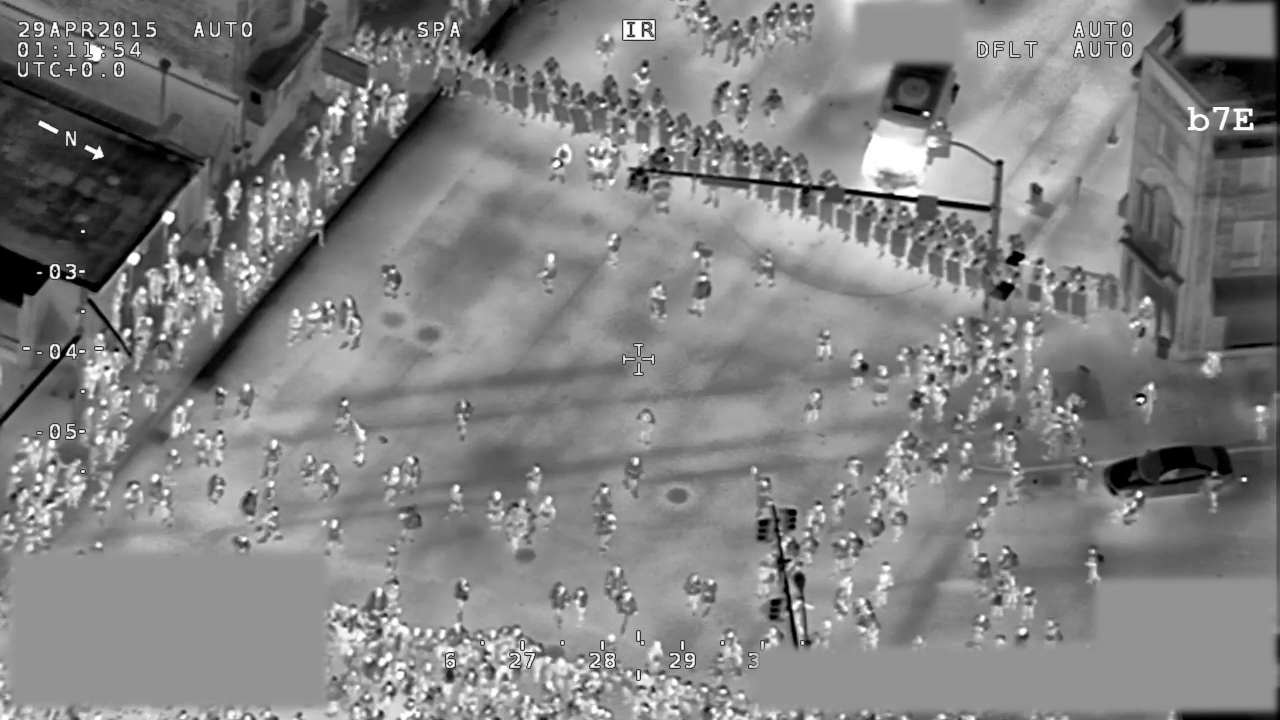vehicle: (860, 61, 962, 192), (1099, 440, 1238, 498)
